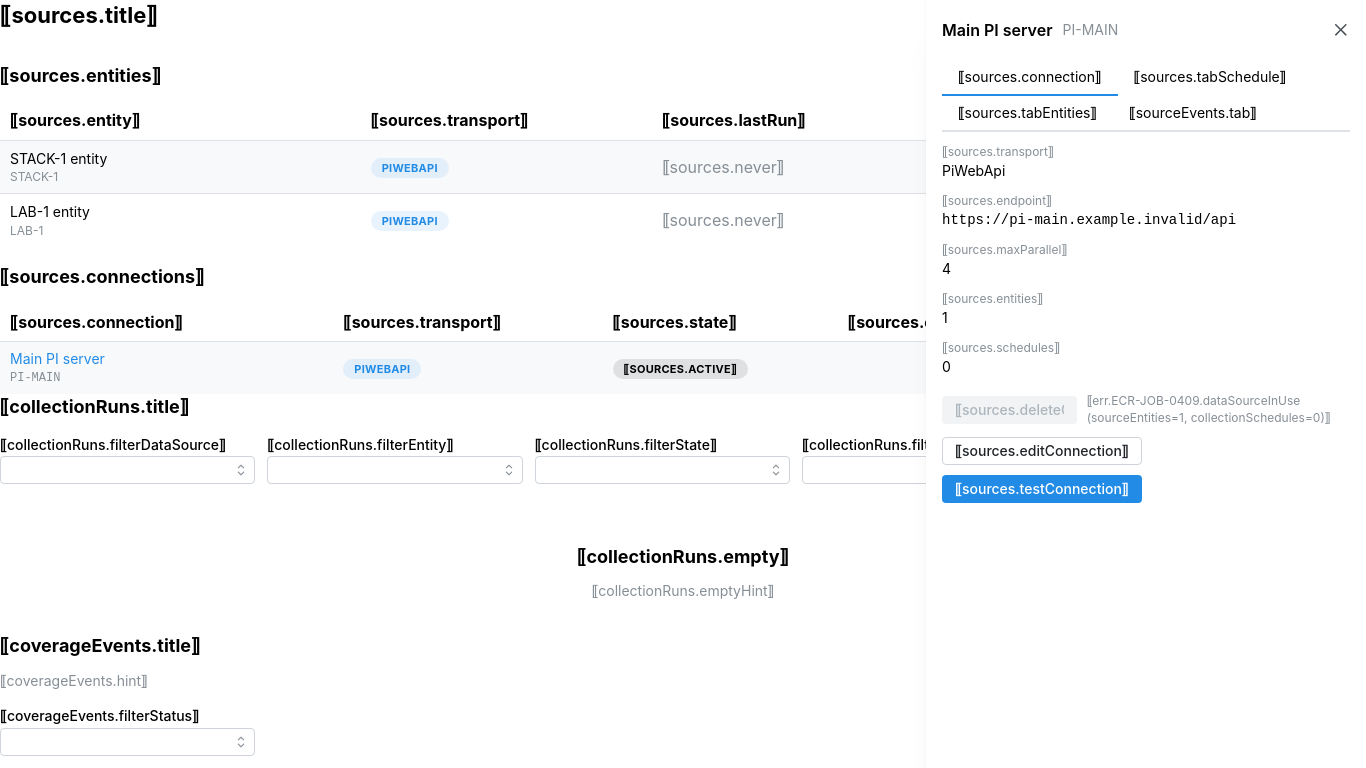
it: Шухляда з'єднання: вкладка Entities › D11: недоступний каталог (503) не повторюється — причина видна з першої відповіді, а не через ~3 спроби
Click the tab "⟦sources.tabEntities⟧".
click(1028, 114)  # box [942,96,1113,132]
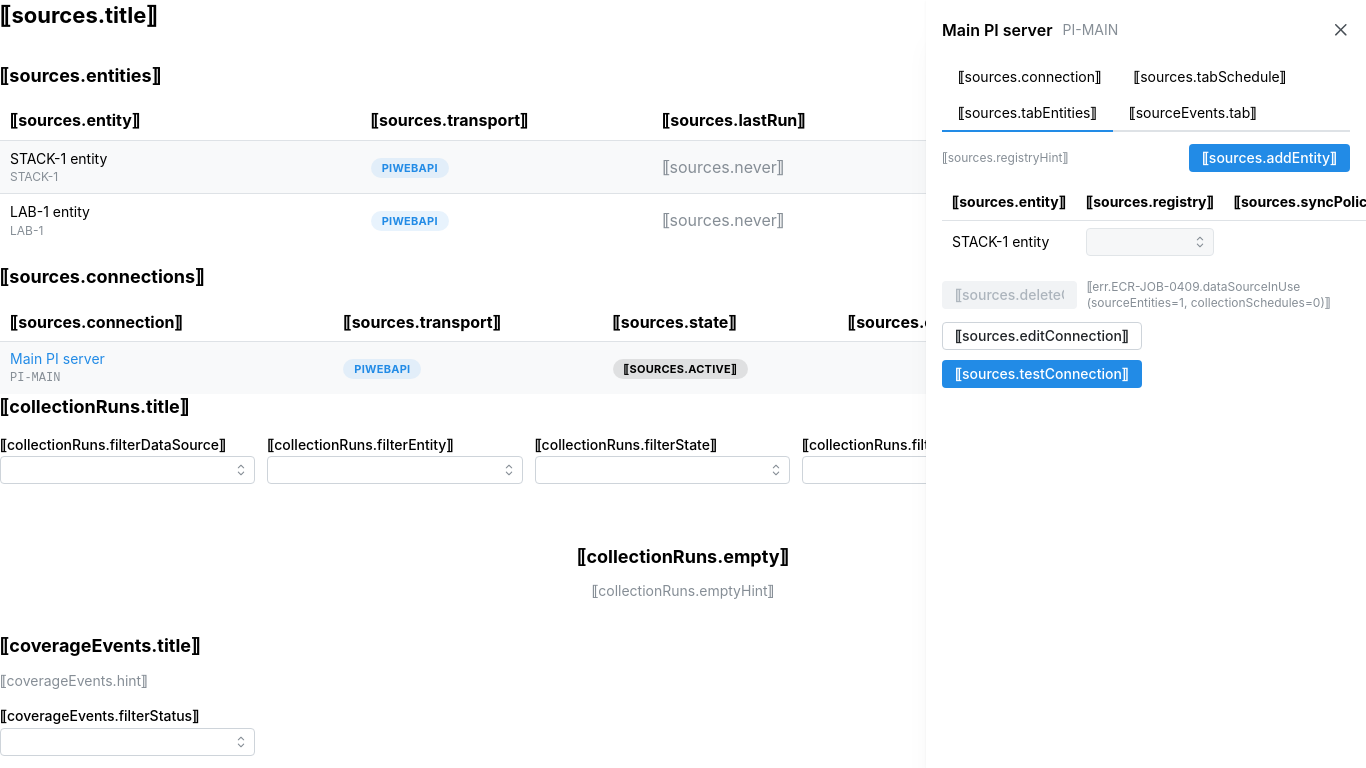
Click the button "⟦sources.addEntity⟧".
click(1269, 158)  # box [1189,144,1350,172]
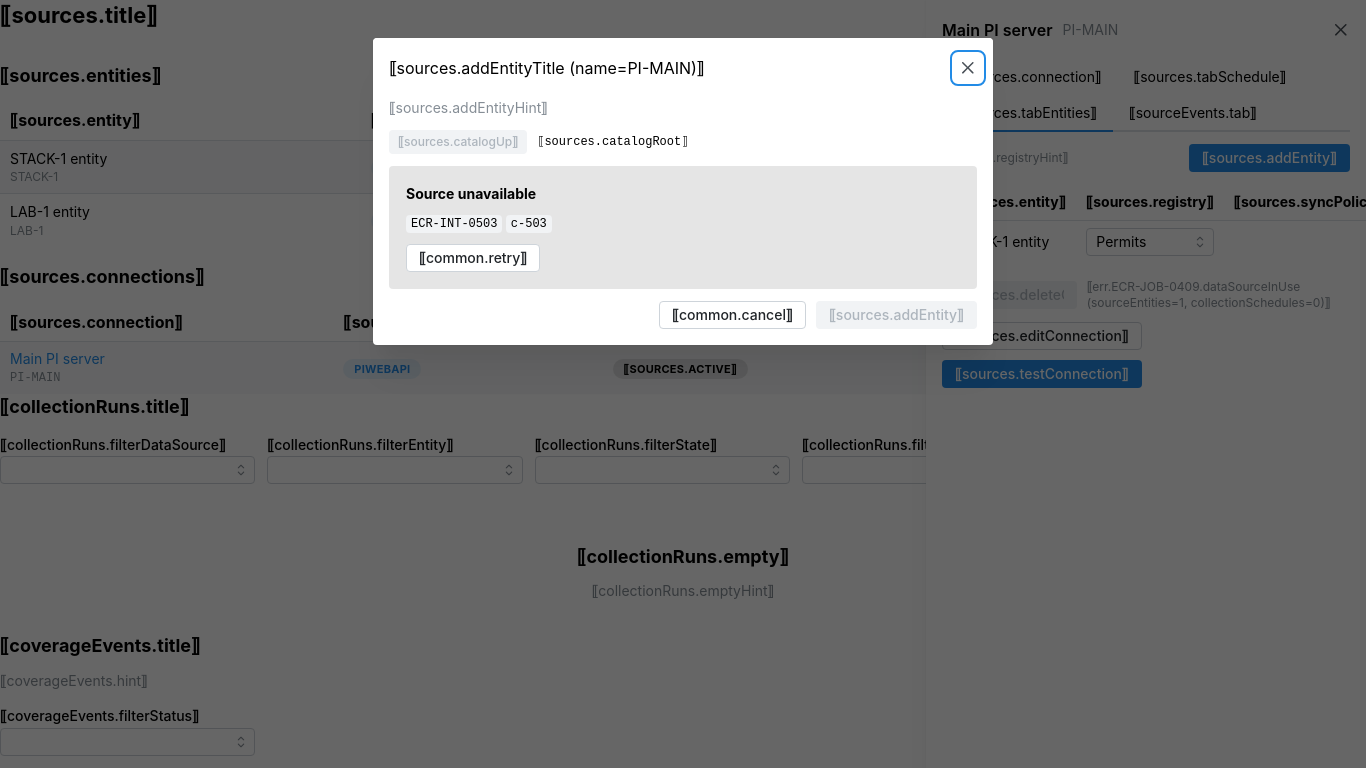
Now the message "Source unavailable ECR-INT-0503 c-503 ⟦common.retry⟧" is shown, box [389,167,977,289]
